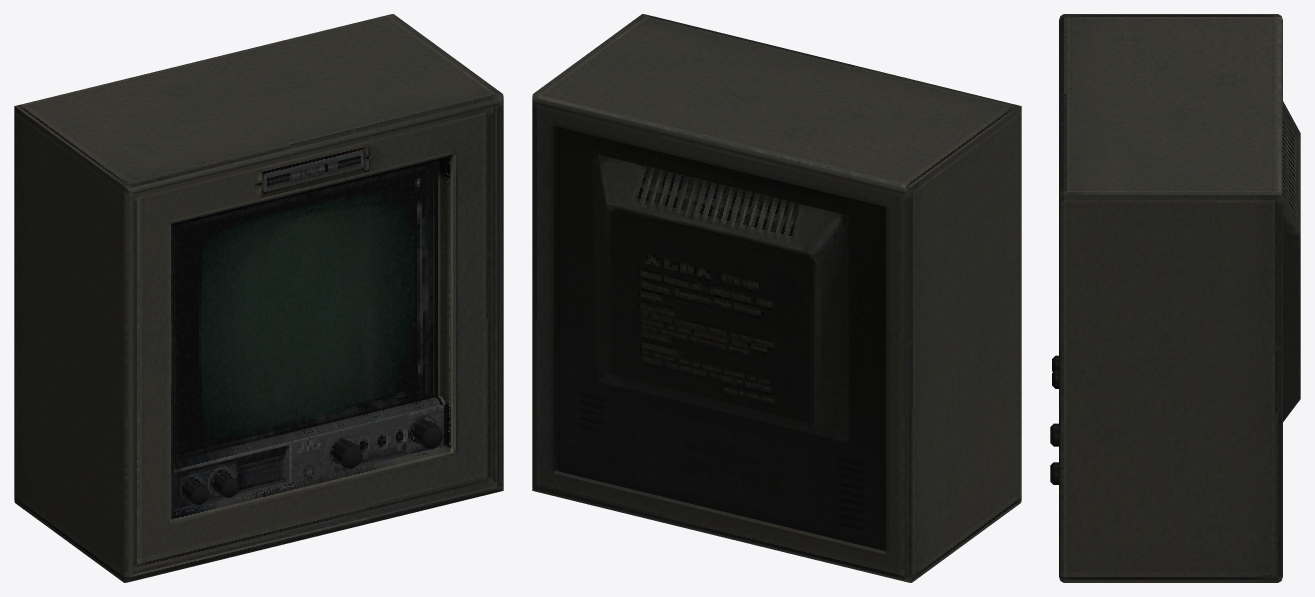
File: screen_1.glb
3 views of the same model, side by side, from view 1: azimuth 30°, elevation 25°; view 2: azimuth 150°, elevation 25°; view 3: azimuth 270°, elevation 25° (orthographic). The views are drawn at different scales.
Parts seen in each view (by area): view 1: screen_1; view 2: screen_1; view 3: screen_1.
Part boxes in pixels (<box>): screen_1: <box>14,14,503,582</box>; screen_1: <box>532,14,1021,582</box>; screen_1: <box>1050,14,1300,582</box>.
Bounding box in the file's own units: 0.63 × 0.63 × 0.3688.
2 materials, 2 textured.
